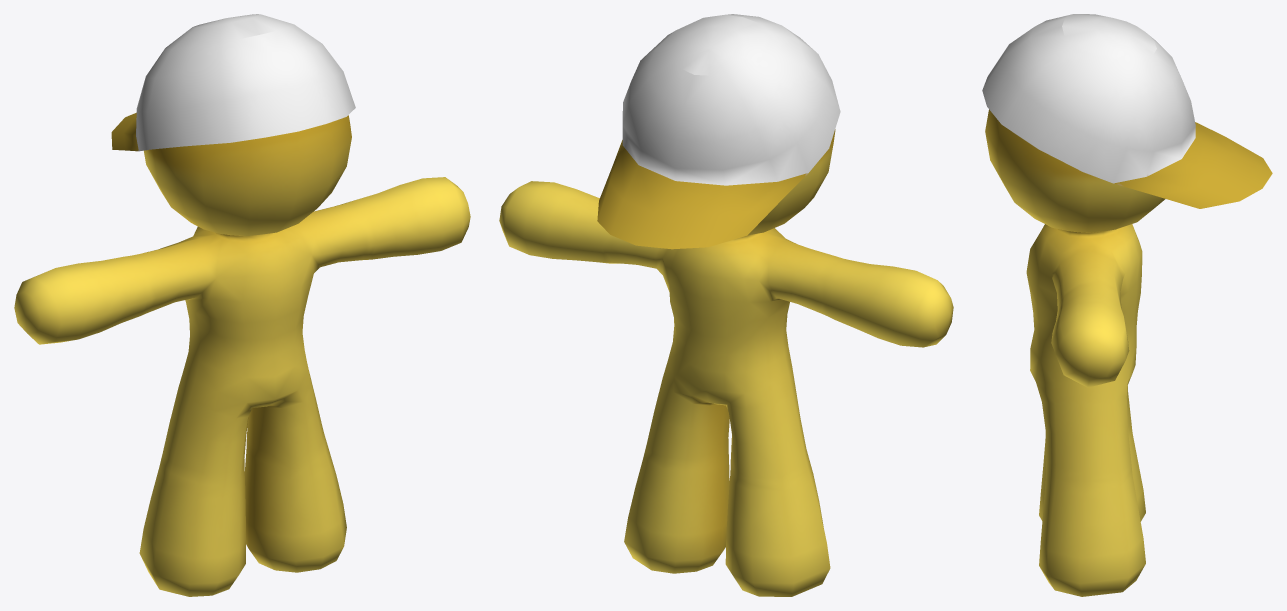
Rendered from Model_Stickman_Yellow.fbx.
3 renders of one model, left to right at view 1: azimuth 30°, elevation 25°; view 2: azimuth 150°, elevation 25°; view 3: azimuth 270°, elevation 25°, orthographic. The views are drawn at different scales.
Parts seen in each view (by area): view 1: Model_Stickman_Yellow; view 2: Model_Stickman_Yellow; view 3: Model_Stickman_Yellow.
Boxes of the visible parts, box(x1,y1,x2,y2) form: Model_Stickman_Yellow: box(14, 14, 470, 596); Model_Stickman_Yellow: box(499, 14, 953, 596); Model_Stickman_Yellow: box(982, 14, 1272, 596).
Bounding box in the file's own units: 218 × 258 × 127.
